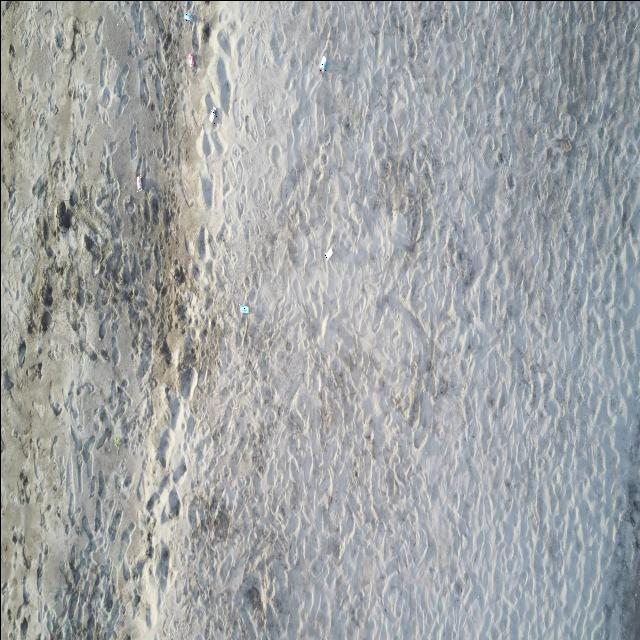Garbage: (208, 107, 216, 123), (187, 52, 195, 68), (136, 175, 143, 191), (319, 55, 326, 71), (324, 248, 332, 259), (184, 11, 192, 22), (240, 304, 248, 313), (114, 435, 120, 447)
